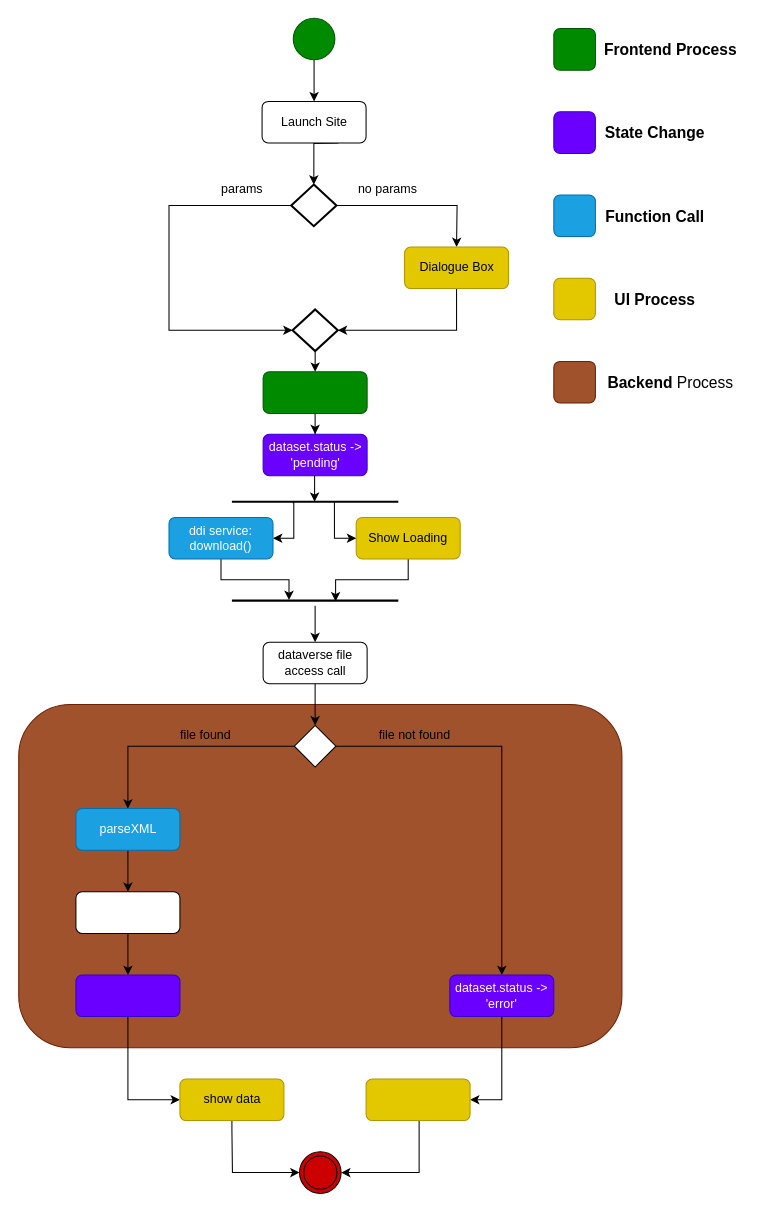
The diagram is 765 pixels wide and 1212 high, and some of its shapes have lost their labels. The shapes that lost their labels are listed below. From the top down, each one's centre as x and y in pixels, then its label:
At pixel 314 392: "Dataset Download".
At pixel 127 912: "return { variable, groups, citation }".
At pixel 127 995: "dataset.status -> 'success'".
At pixel 417 1099: "show error page".
